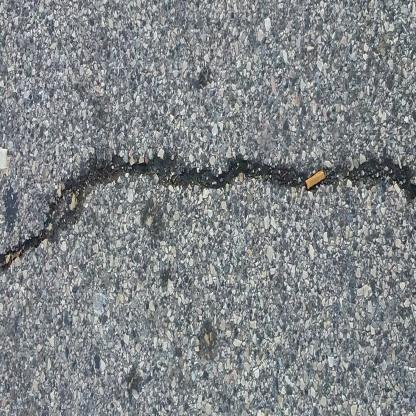Cracks: (0, 154, 416, 379)
